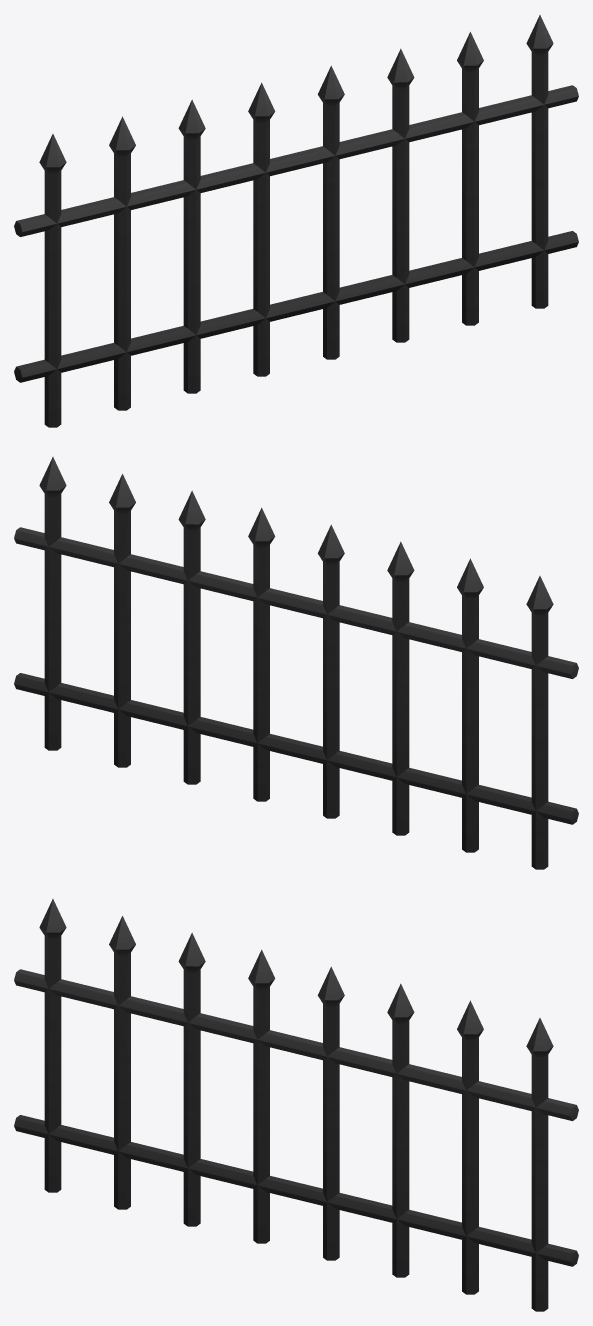
File: fence_seperate.glb
The picture shows the model from 3 angles, top to bottom: view 1: azimuth 30°, elevation 25°; view 2: azimuth 150°, elevation 25°; view 3: azimuth 330°, elevation 25°; orthographic projection.
Parts seen in each view (by area): view 1: fence_seperate; view 2: fence_seperate; view 3: fence_seperate.
Part boxes in pixels (x1,y1,x2,y2): fence_seperate: [14, 15, 578, 427]; fence_seperate: [14, 457, 578, 869]; fence_seperate: [14, 899, 578, 1311].
Bounding box in the file's own units: 4 × 2 × 0.1694.
1 material, 1 textured.
